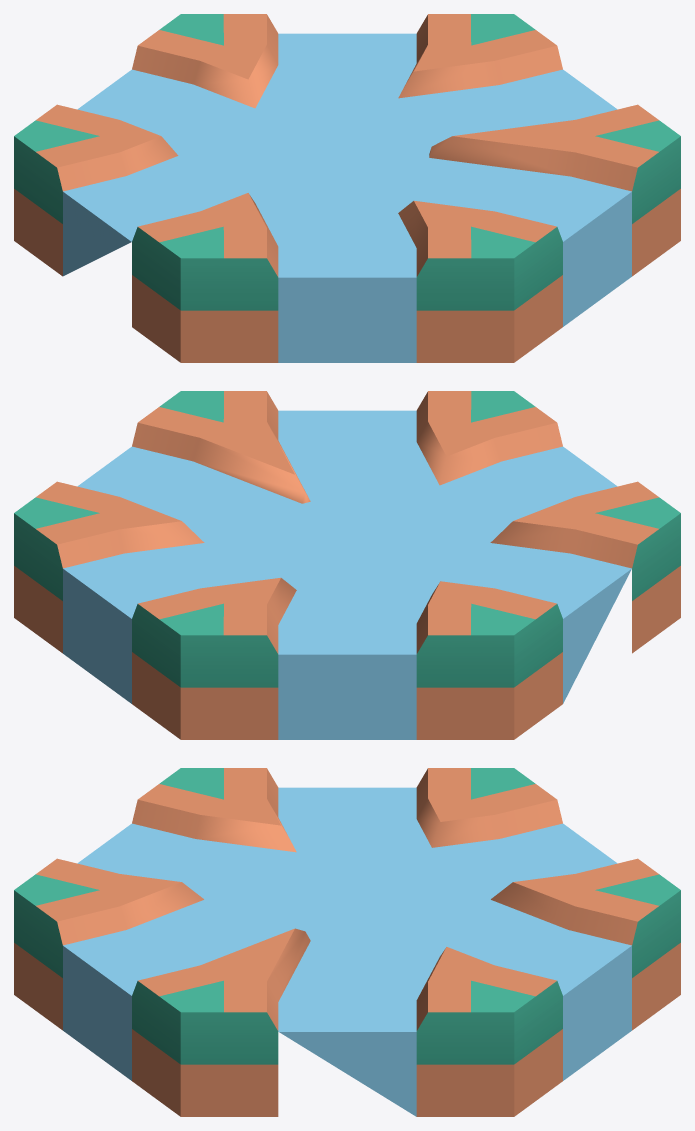
File: kenney-hexagon-river-crossing.glb
3 views of the same model, one above another, from view 1: azimuth 30°, elevation 25°; view 2: azimuth 150°, elevation 25°; view 3: azimuth 270°, elevation 25° (orthographic).
Visible parts, largest first — view 1: river_crossing; view 2: river_crossing; view 3: river_crossing.
Part boxes in pixels (x1,y1,x2,y2): river_crossing: (14,14,680,362); river_crossing: (14,391,680,739); river_crossing: (14,768,680,1116).
Bounding box in the file's own units: 1 × 0.2 × 1.15.
1 material, 1 textured.
